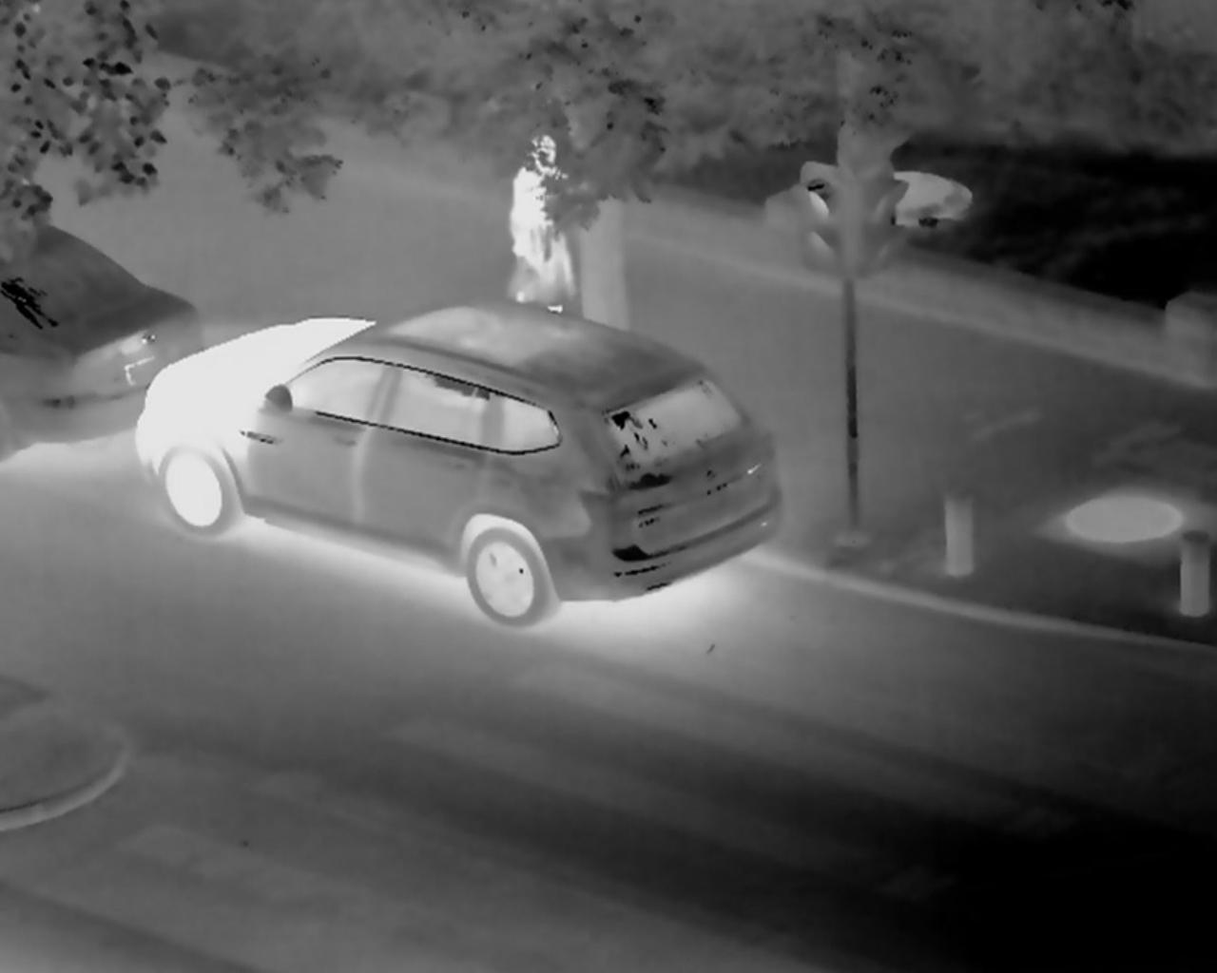person: (510, 124, 592, 322)
